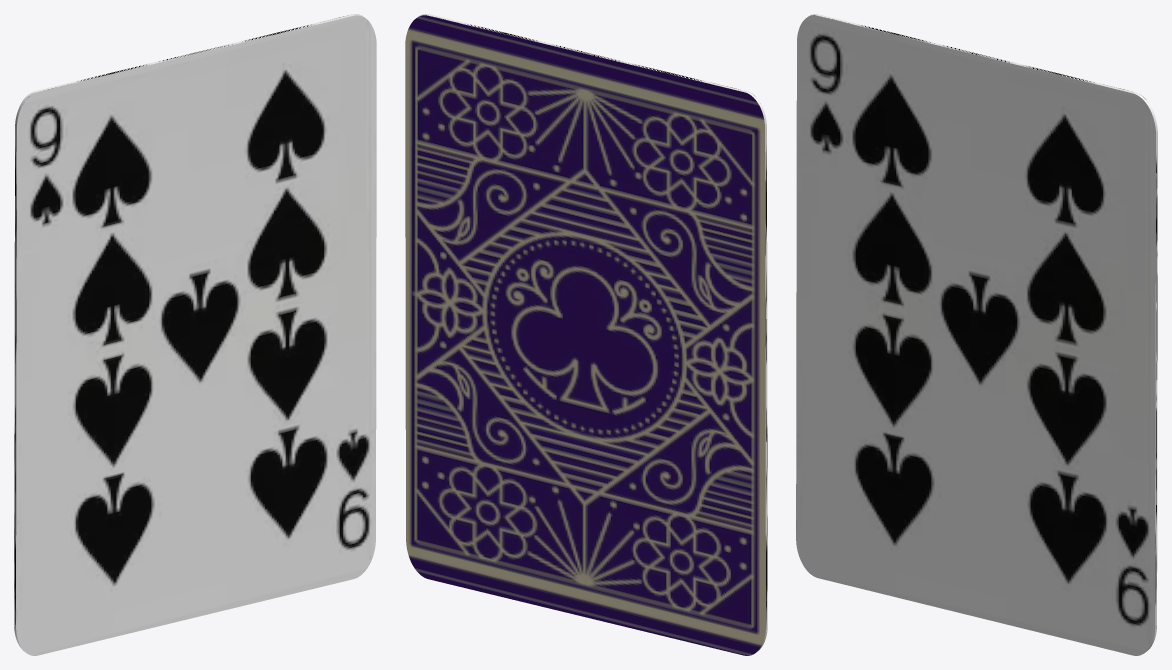
File: 9picas.glb
3 views of the same model, side by side, from view 1: azimuth 30°, elevation 25°; view 2: azimuth 150°, elevation 25°; view 3: azimuth 330°, elevation 25° (orthographic).
Visible parts, largest first — view 1: Cubo.008; view 2: Cubo.008; view 3: Cubo.008.
Boxes of the visible parts, x1,y1,x2,y2 form: Cubo.008: (14, 14, 376, 655); Cubo.008: (405, 14, 767, 655); Cubo.008: (796, 14, 1157, 655).
Size of the model in its own units: 7.36 by 11 by 0.065.
Materials: 3 (3 with a texture image).
